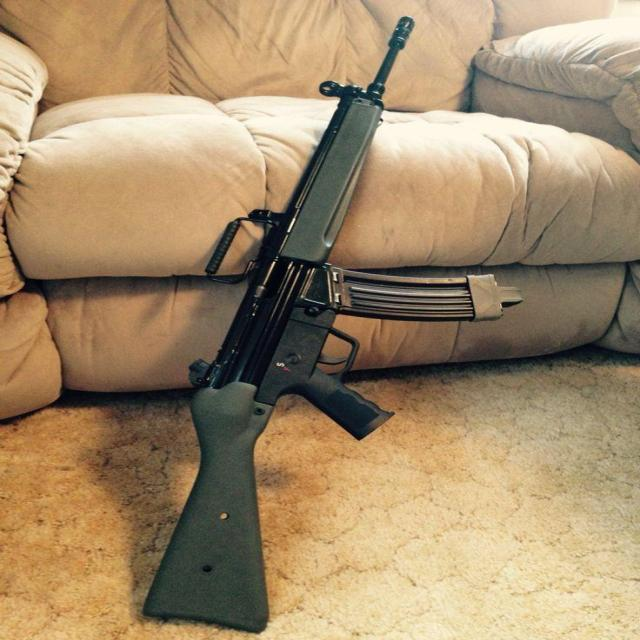rifle: (143, 16, 520, 632)
